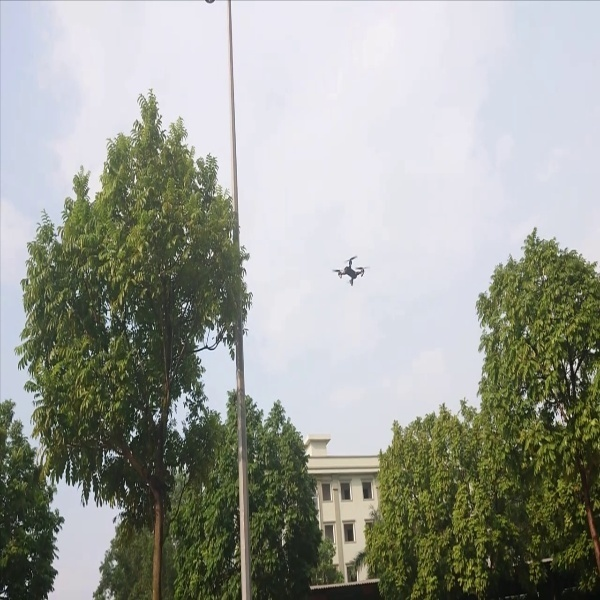drone: (317, 246, 375, 294)
